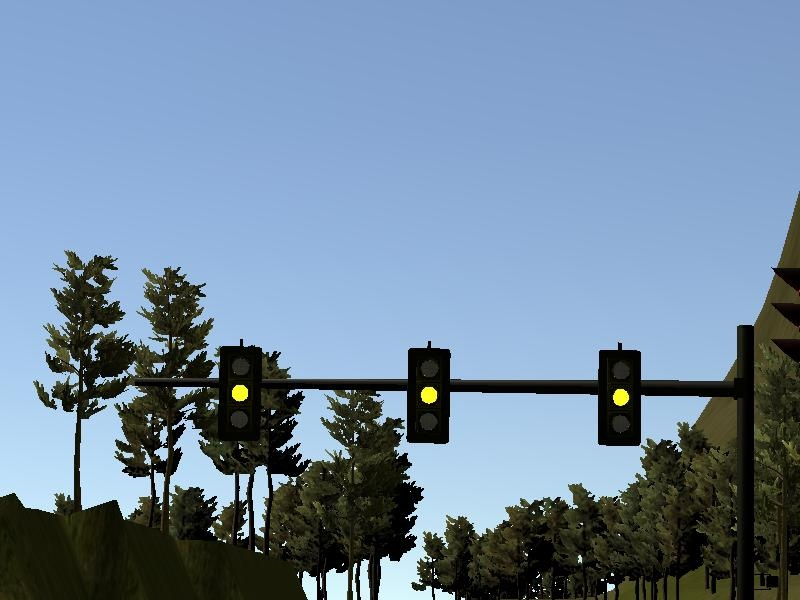YELLOW: (217, 345, 260, 440), (407, 347, 450, 442), (599, 350, 642, 445)
